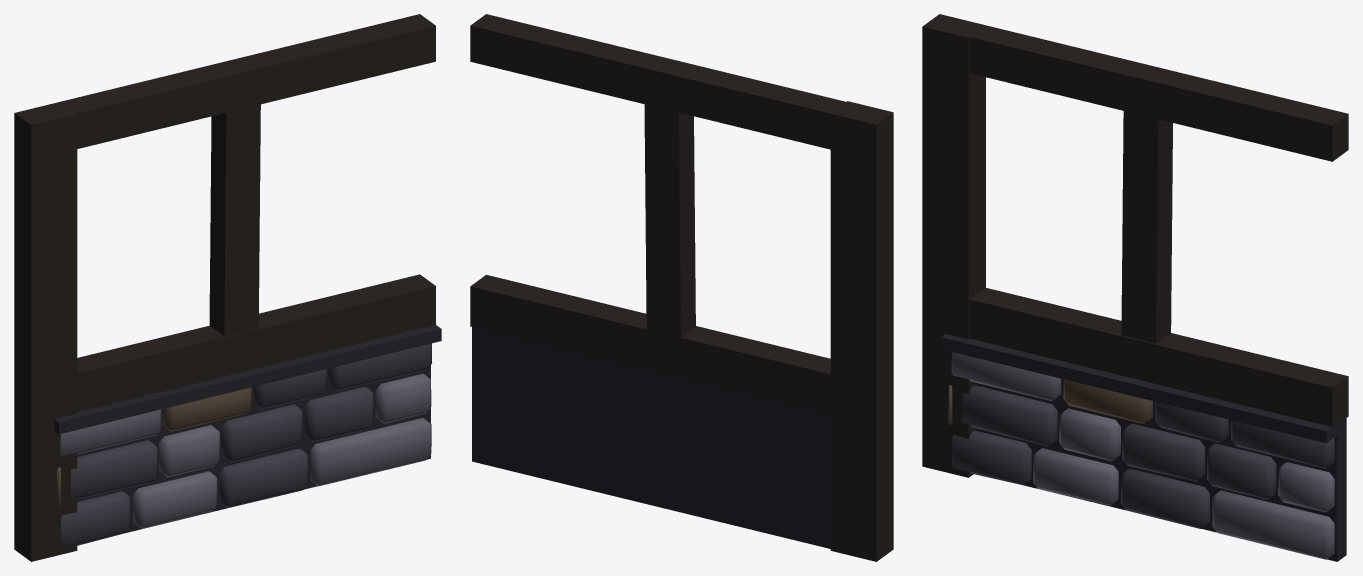
Rendered from kit_timber_low_a.glb.
The picture shows the model from 3 angles, left to right: view 1: azimuth 30°, elevation 25°; view 2: azimuth 150°, elevation 25°; view 3: azimuth 330°, elevation 25°; orthographic projection.
Parts seen in each view (by area): view 1: kit_timber_low_a; view 2: kit_timber_low_a; view 3: kit_timber_low_a.
Boxes of the visible parts, left/top/right/bottom form: kit_timber_low_a: left=14, top=14, right=441, bottom=561; kit_timber_low_a: left=470, top=14, right=893, bottom=561; kit_timber_low_a: left=922, top=14, right=1348, bottom=561.
Size of the model in its own units: 1.06 by 1.09 by 0.098.
